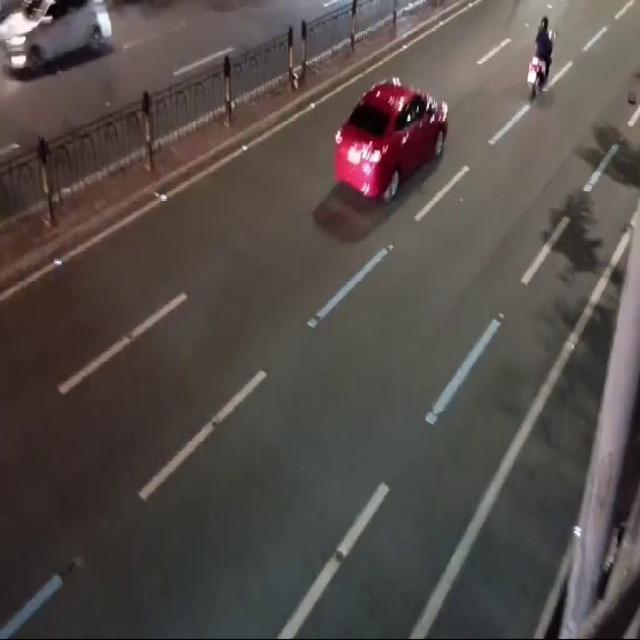car: (327, 64, 468, 205)
motorcycle: (513, 3, 565, 110)
